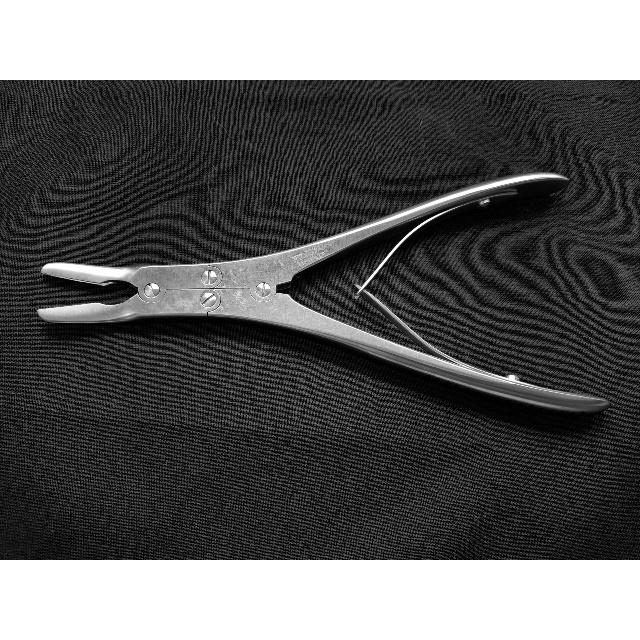gubia: (37, 173, 610, 418)
